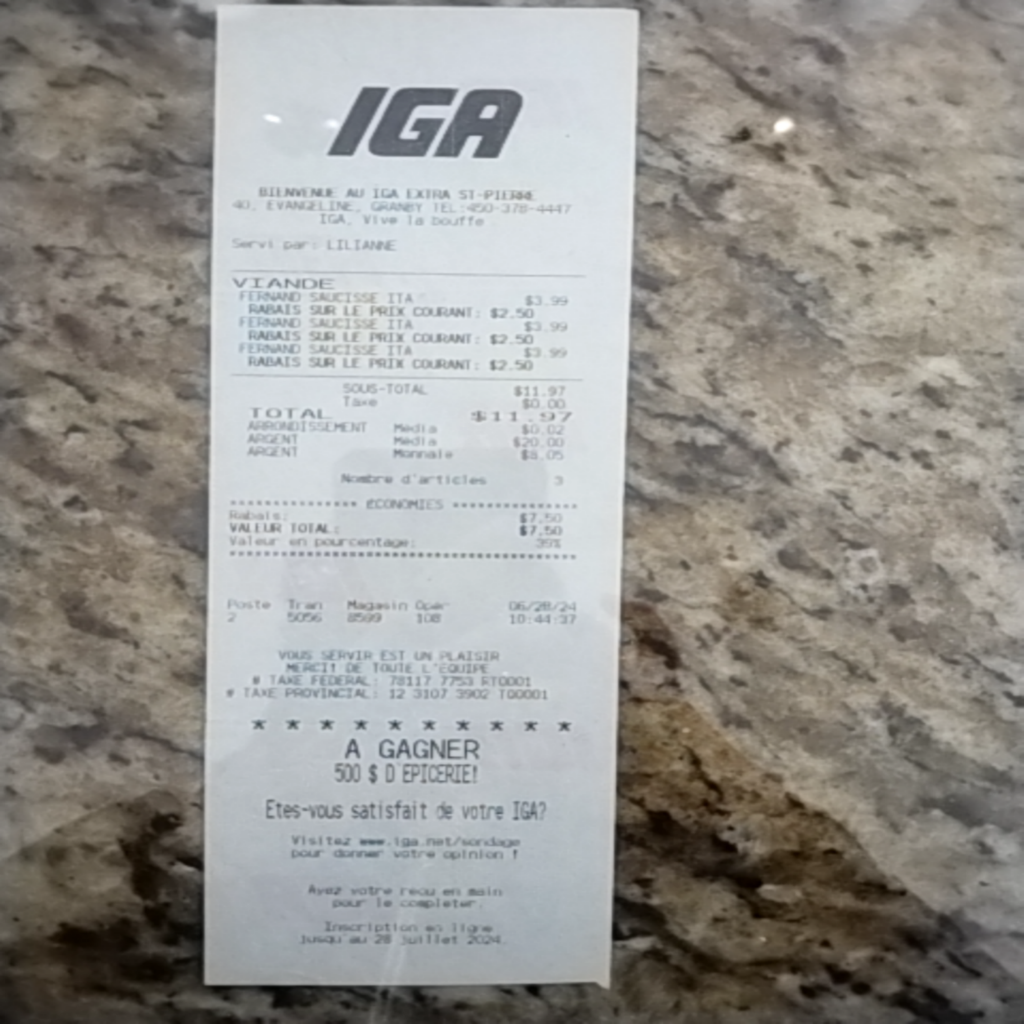recipt: (204, 6, 634, 990)
